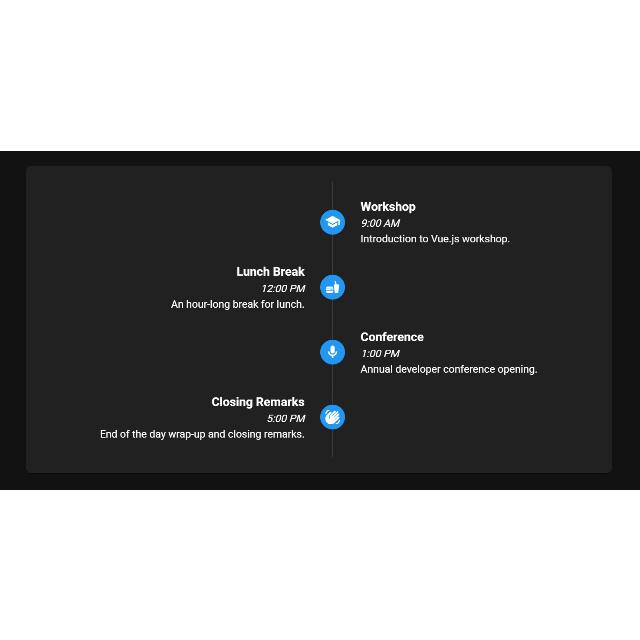VCard: (23, 162, 615, 476)
VTimeline: (94, 178, 568, 462)
